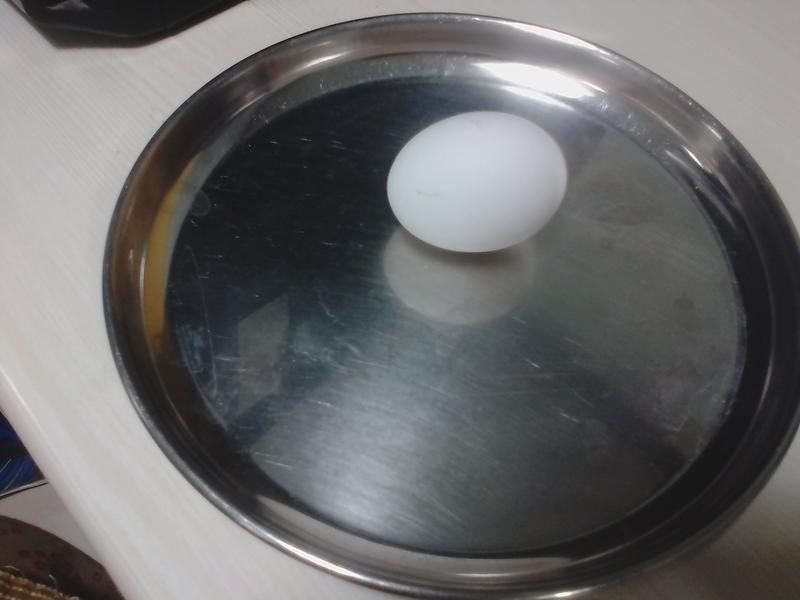egg: (395, 112, 564, 243)
